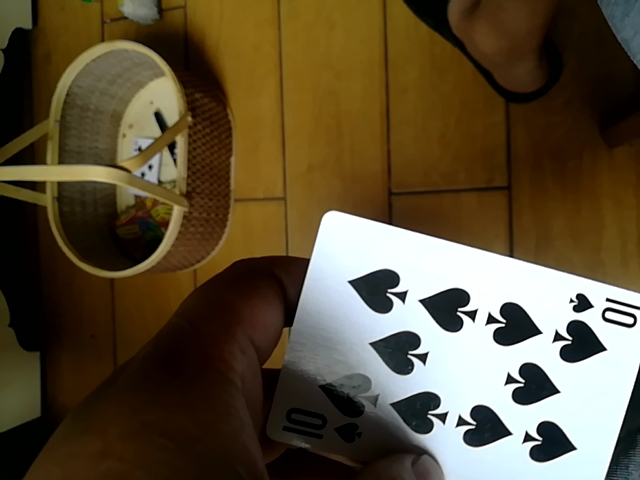ht 10: (270, 200, 639, 480)
